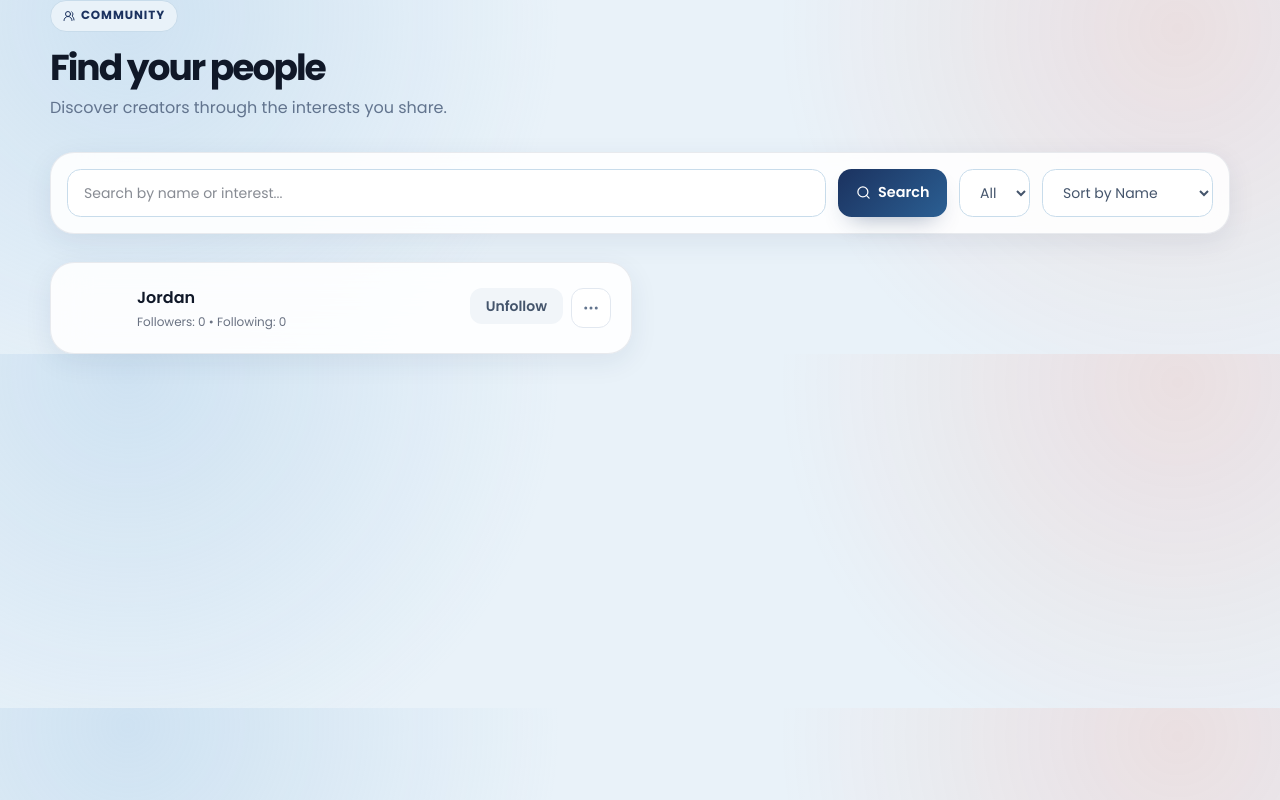
Test: People personal blocking controls › confirms blocking, removes the follow control, and permits unblocking
The image size is (1280, 800).
Expected: the link "Jordan" is shown, [137,286,195,309]
Expected: the button "Unfollow" is shown, [470,288,563,324]
Click the button named "More actions for Jordan" at (591, 308), box [571,288,611,328]
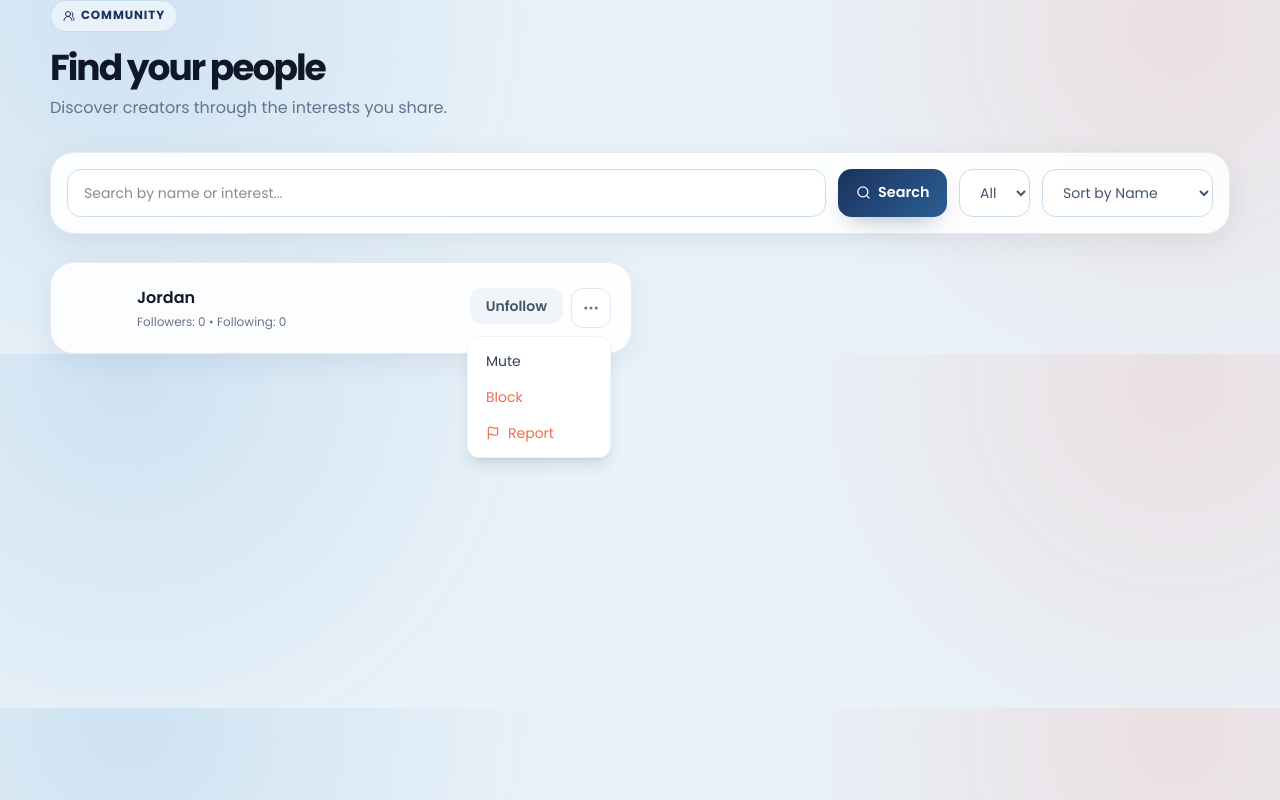
Click the button "Block" at (539, 397), box [474,379,604,415]
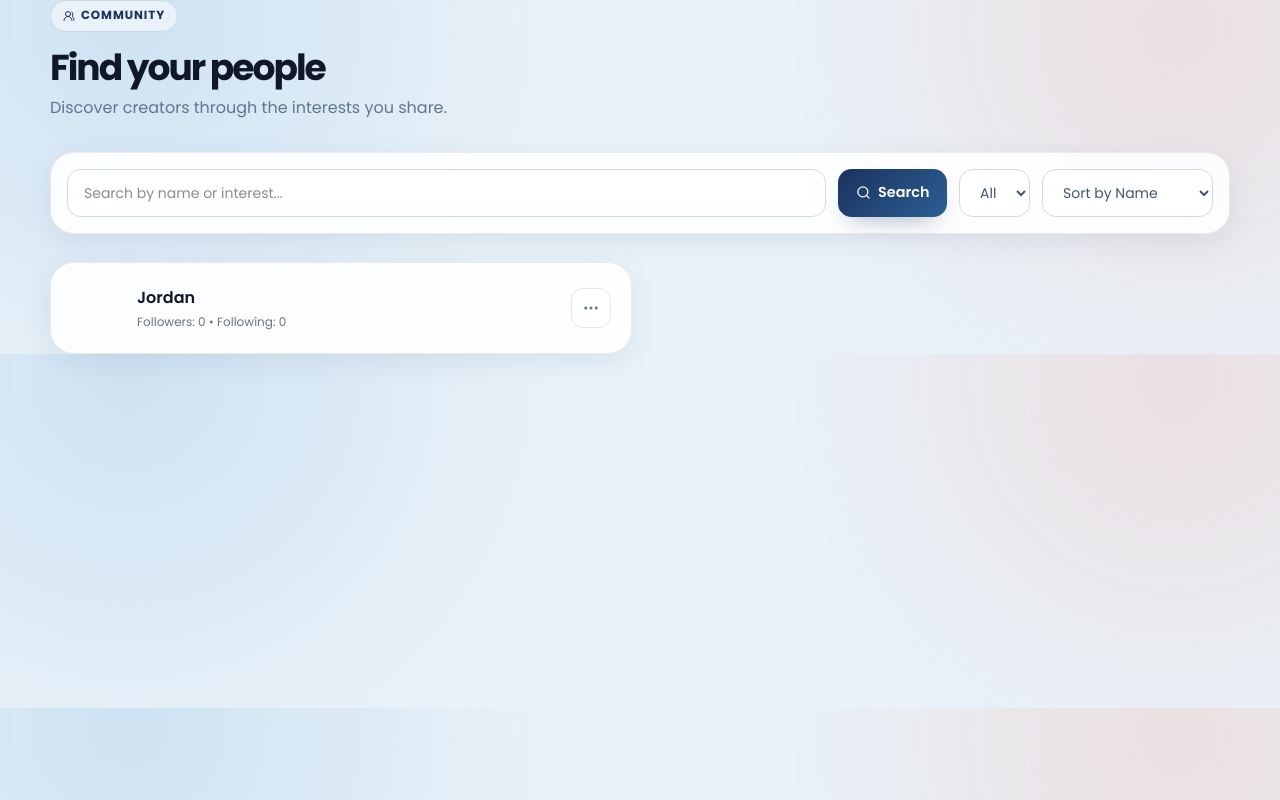
Expected: the button "Unfollow" is gone
Click the button named "More actions for Jordan" at (591, 308), box [571,288,611,328]
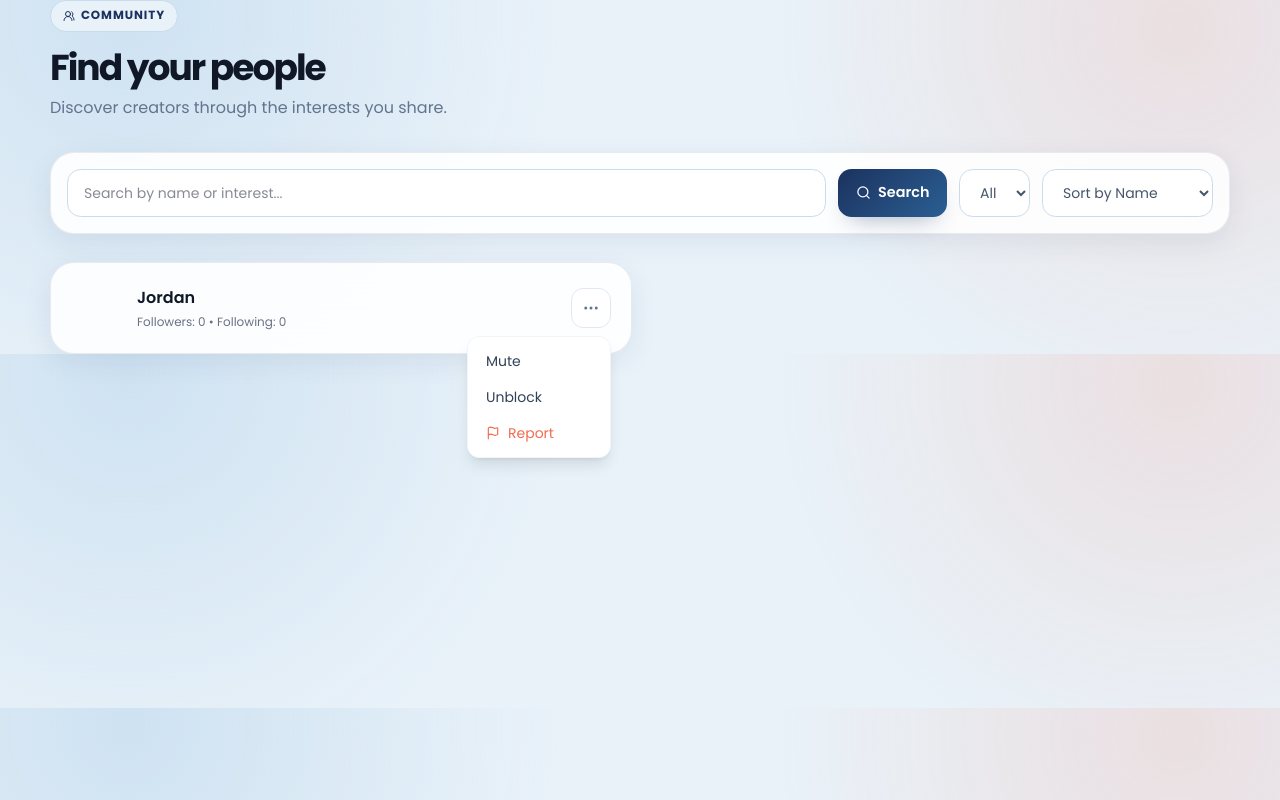
Click the button "Unblock" at (539, 397), box [474,379,604,415]
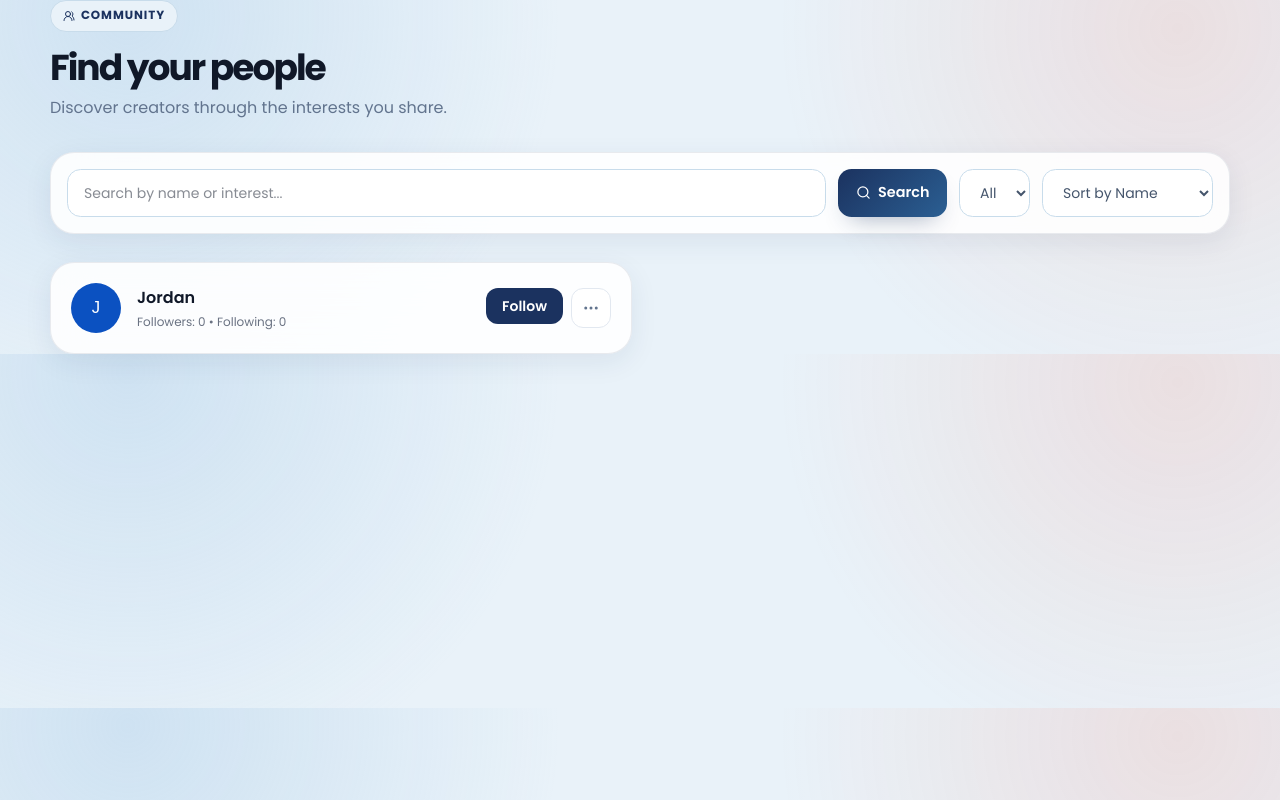
Expected: the button "Follow" is shown, [486,288,563,324]
